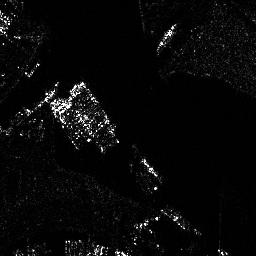ship: (155, 22, 177, 50), (141, 158, 163, 181)
